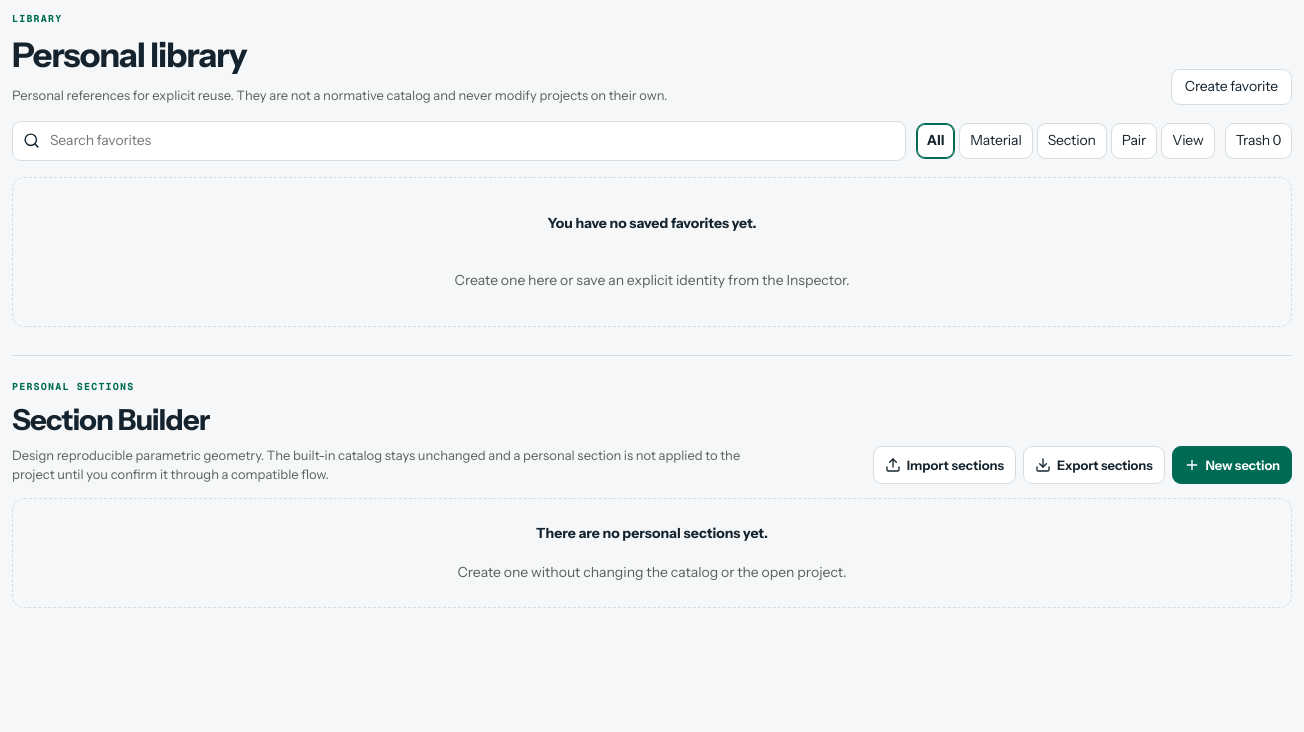
it: PersonalLibraryView › renders the management flow in English without mixed Spanish controls
Expected: the heading "Personal library" is shown, [12,34,246,76]
What coordinates should you click on to do the following:
click the button "Create favorite"
I would click on:
 (1231, 87)
Its box is [1171,69,1292,105].
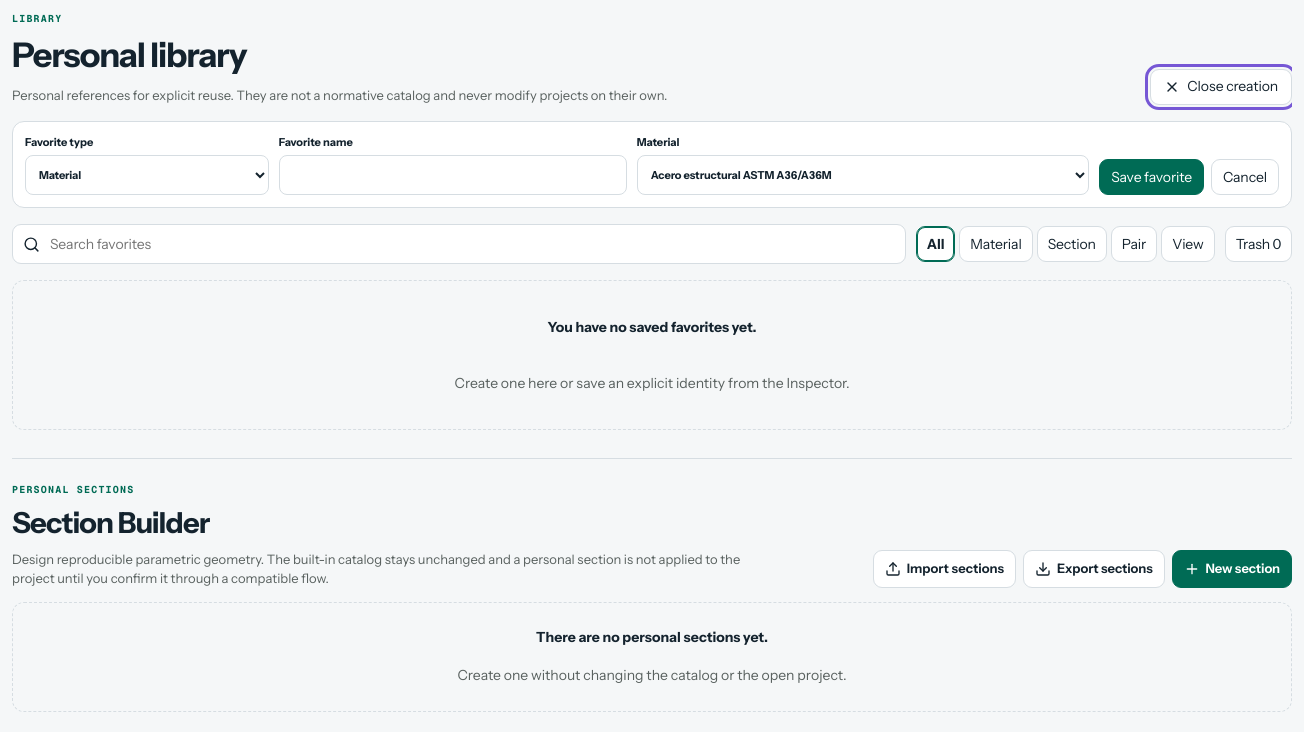
Now the button "Save favorite" is shown, box [1099,159,1204,195]
